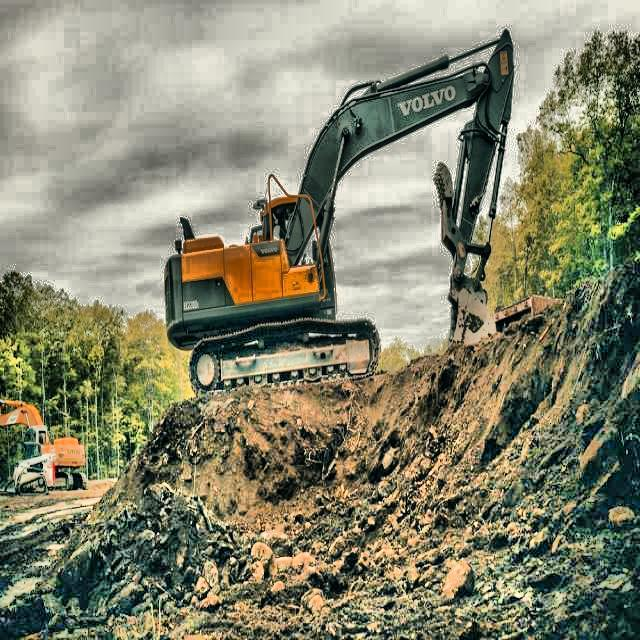excavator: (163, 28, 518, 404), (0, 398, 89, 496)
